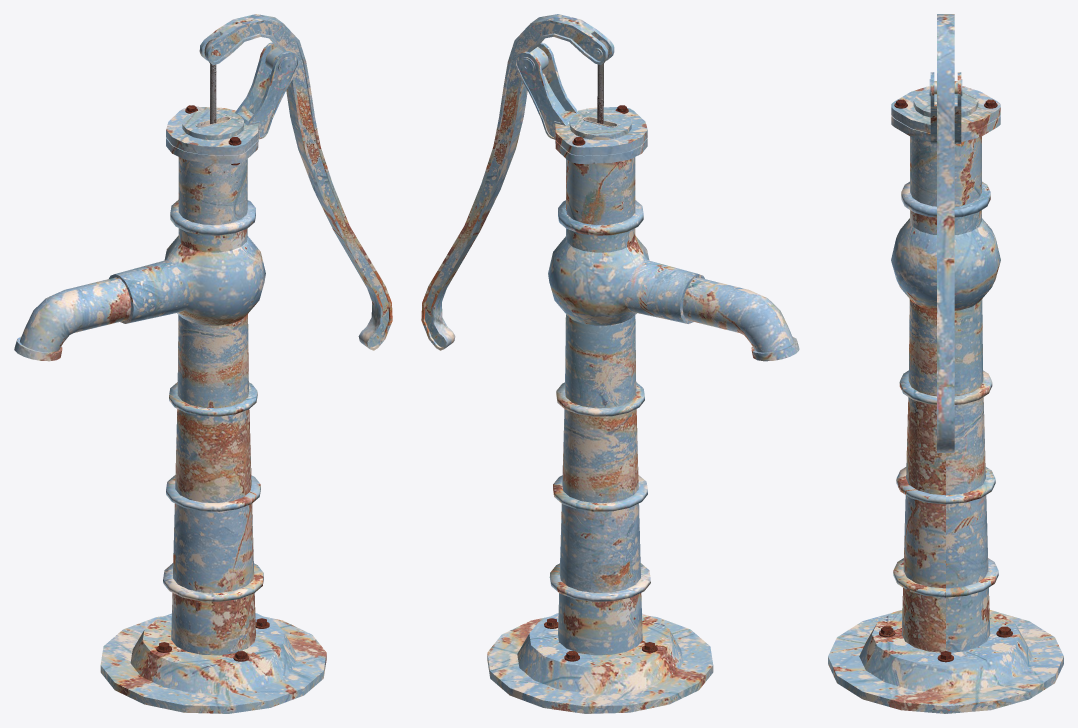
The picture shows the model from 3 angles, left to right: view 1: azimuth 30°, elevation 25°; view 2: azimuth 150°, elevation 25°; view 3: azimuth 270°, elevation 25°; orthographic projection. The views are drawn at different scales.
Parts seen in each view (by area): view 1: Pump, Lever; view 2: Pump, Lever; view 3: Pump, Lever.
Boxes of the visible parts, left/top/right/bottom form: Pump: left=14, top=42, right=326, bottom=713; Lever: left=199, top=14, right=392, bottom=350; Pump: left=487, top=42, right=799, bottom=713; Lever: left=421, top=14, right=614, bottom=350; Pump: left=828, top=72, right=1063, bottom=713; Lever: left=937, top=14, right=954, bottom=452.
Size of the model in its own units: 58.34 by 95.88 by 31.05.
1 material, 1 textured.
